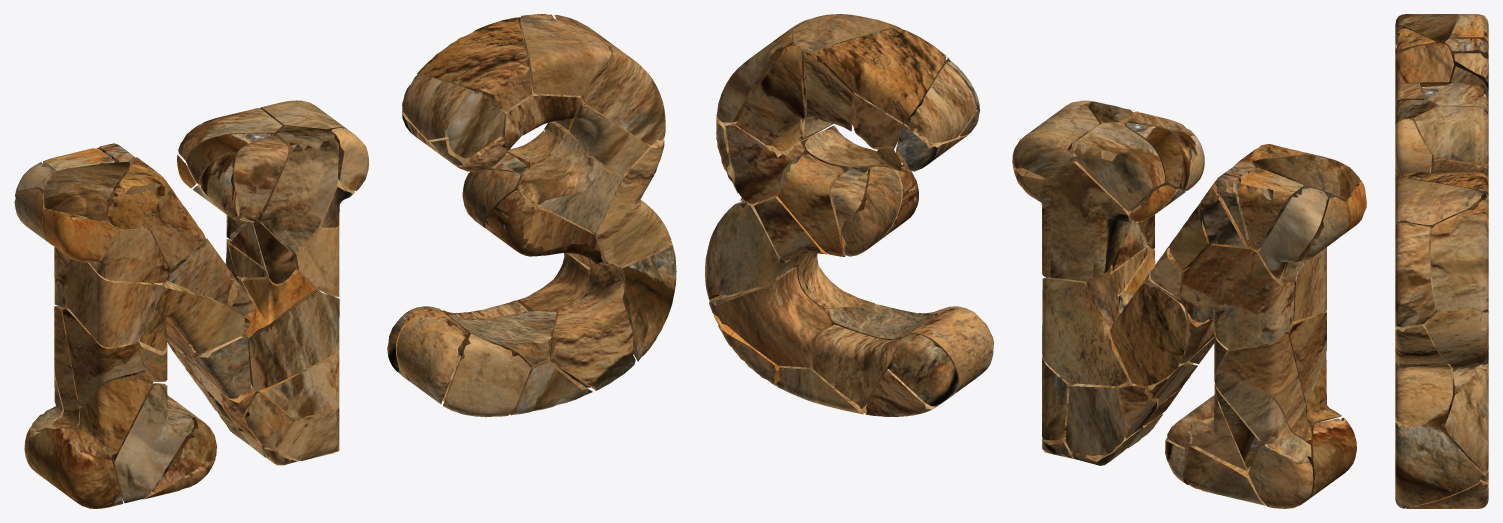
The model's file is stoneN3.obj.
3 views of the same model, side by side, from view 1: azimuth 30°, elevation 25°; view 2: azimuth 150°, elevation 25°; view 3: azimuth 270°, elevation 25° (orthographic). The views are drawn at different scales.
Visible parts, largest first — view 1: Text_cell_Text_cell.100; view 2: Text_cell_Text_cell.100; view 3: Text_cell_Text_cell.100.
Boxes of the visible parts, x1,y1,x2,y2 form: Text_cell_Text_cell.100: [14, 14, 676, 508]; Text_cell_Text_cell.100: [705, 14, 1366, 508]; Text_cell_Text_cell.100: [1395, 14, 1488, 508].
Bounding box in the file's own units: 0.6597 × 0.363 × 0.1.
Materials: 1 (1 with a texture image).
